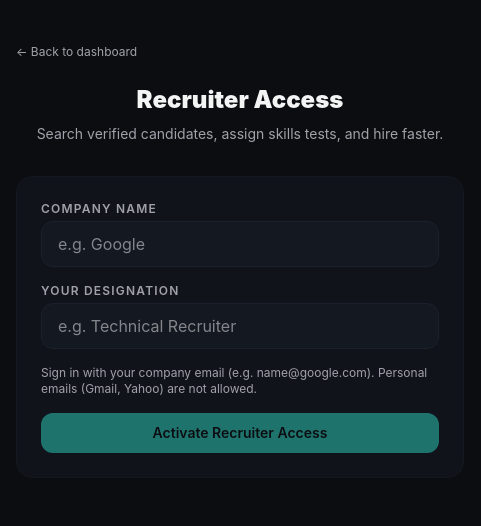
RecruiterSignupPage › falls back to a generic message if the thrown error has no message
Type "Acme Corp" into the field with placeholder "e.g. Google" at (240, 244), box [41,221,439,267]
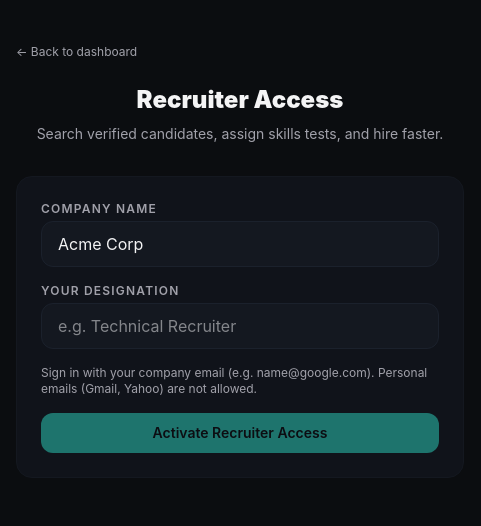
Type "Recruiter" into the field with placeholder "e.g. Technical Recruiter" at (240, 326), box [41,303,439,349]
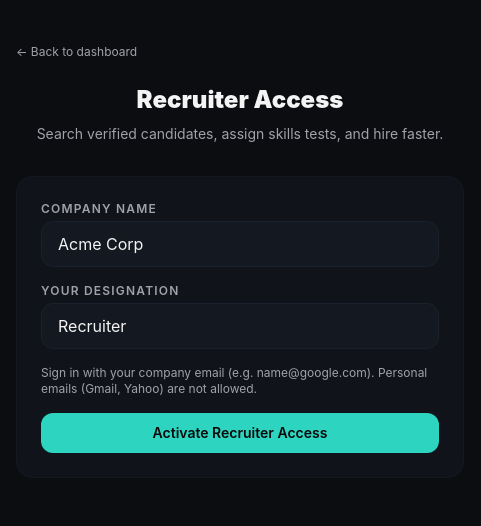
Click the button "Activate Recruiter Access" at (240, 433), box [41,413,439,453]
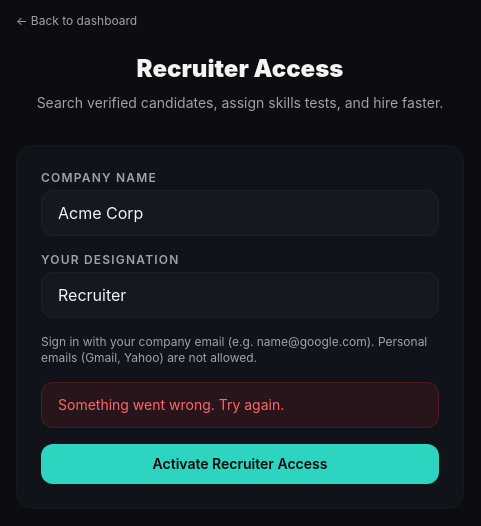
Result: the text "Something went wrong. Try again." is shown at [41,382,439,428]
